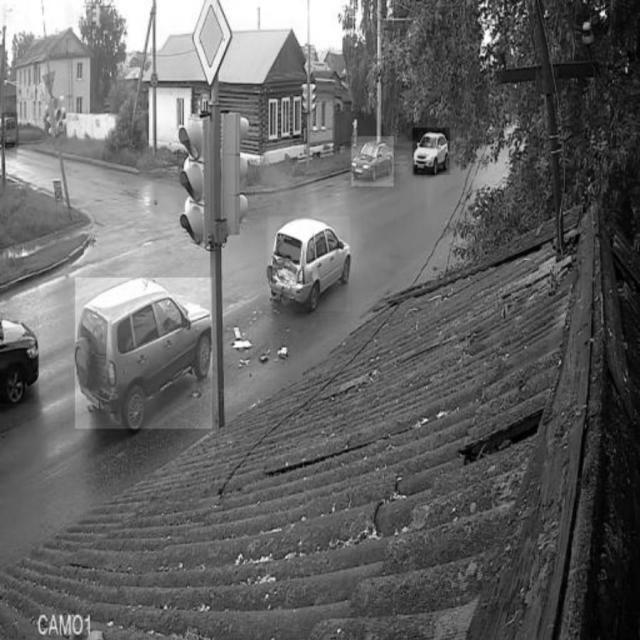vehicle: (75, 278, 212, 429), (267, 217, 349, 311), (0, 313, 38, 404), (352, 137, 394, 187), (413, 128, 450, 175), (2, 113, 19, 148)
